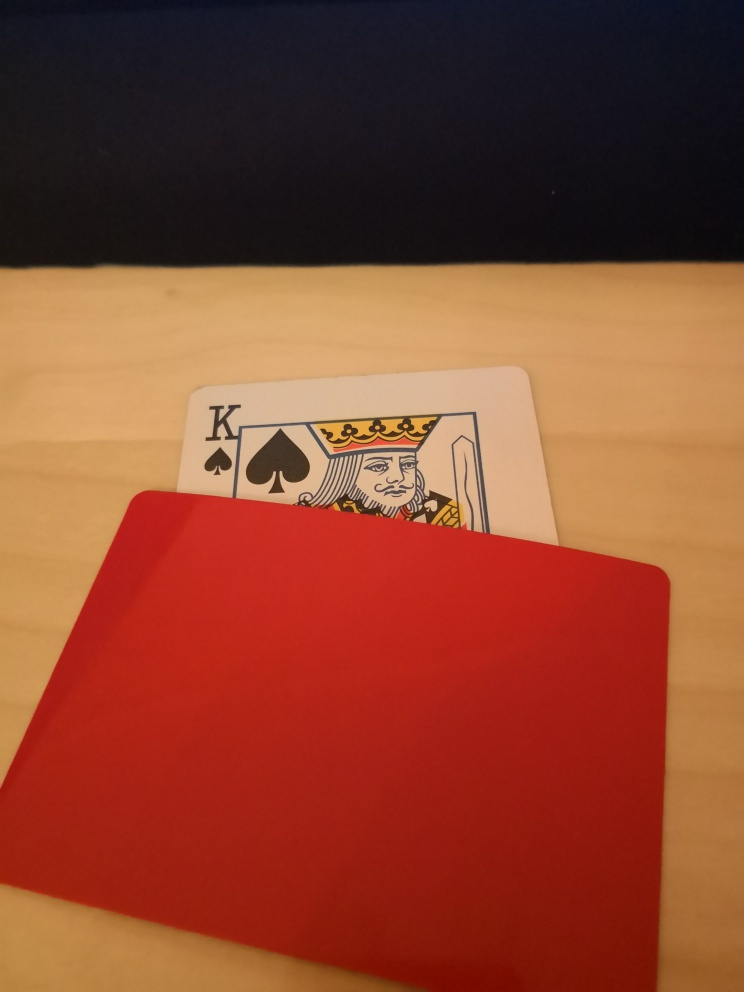king: (176, 364, 561, 549)
